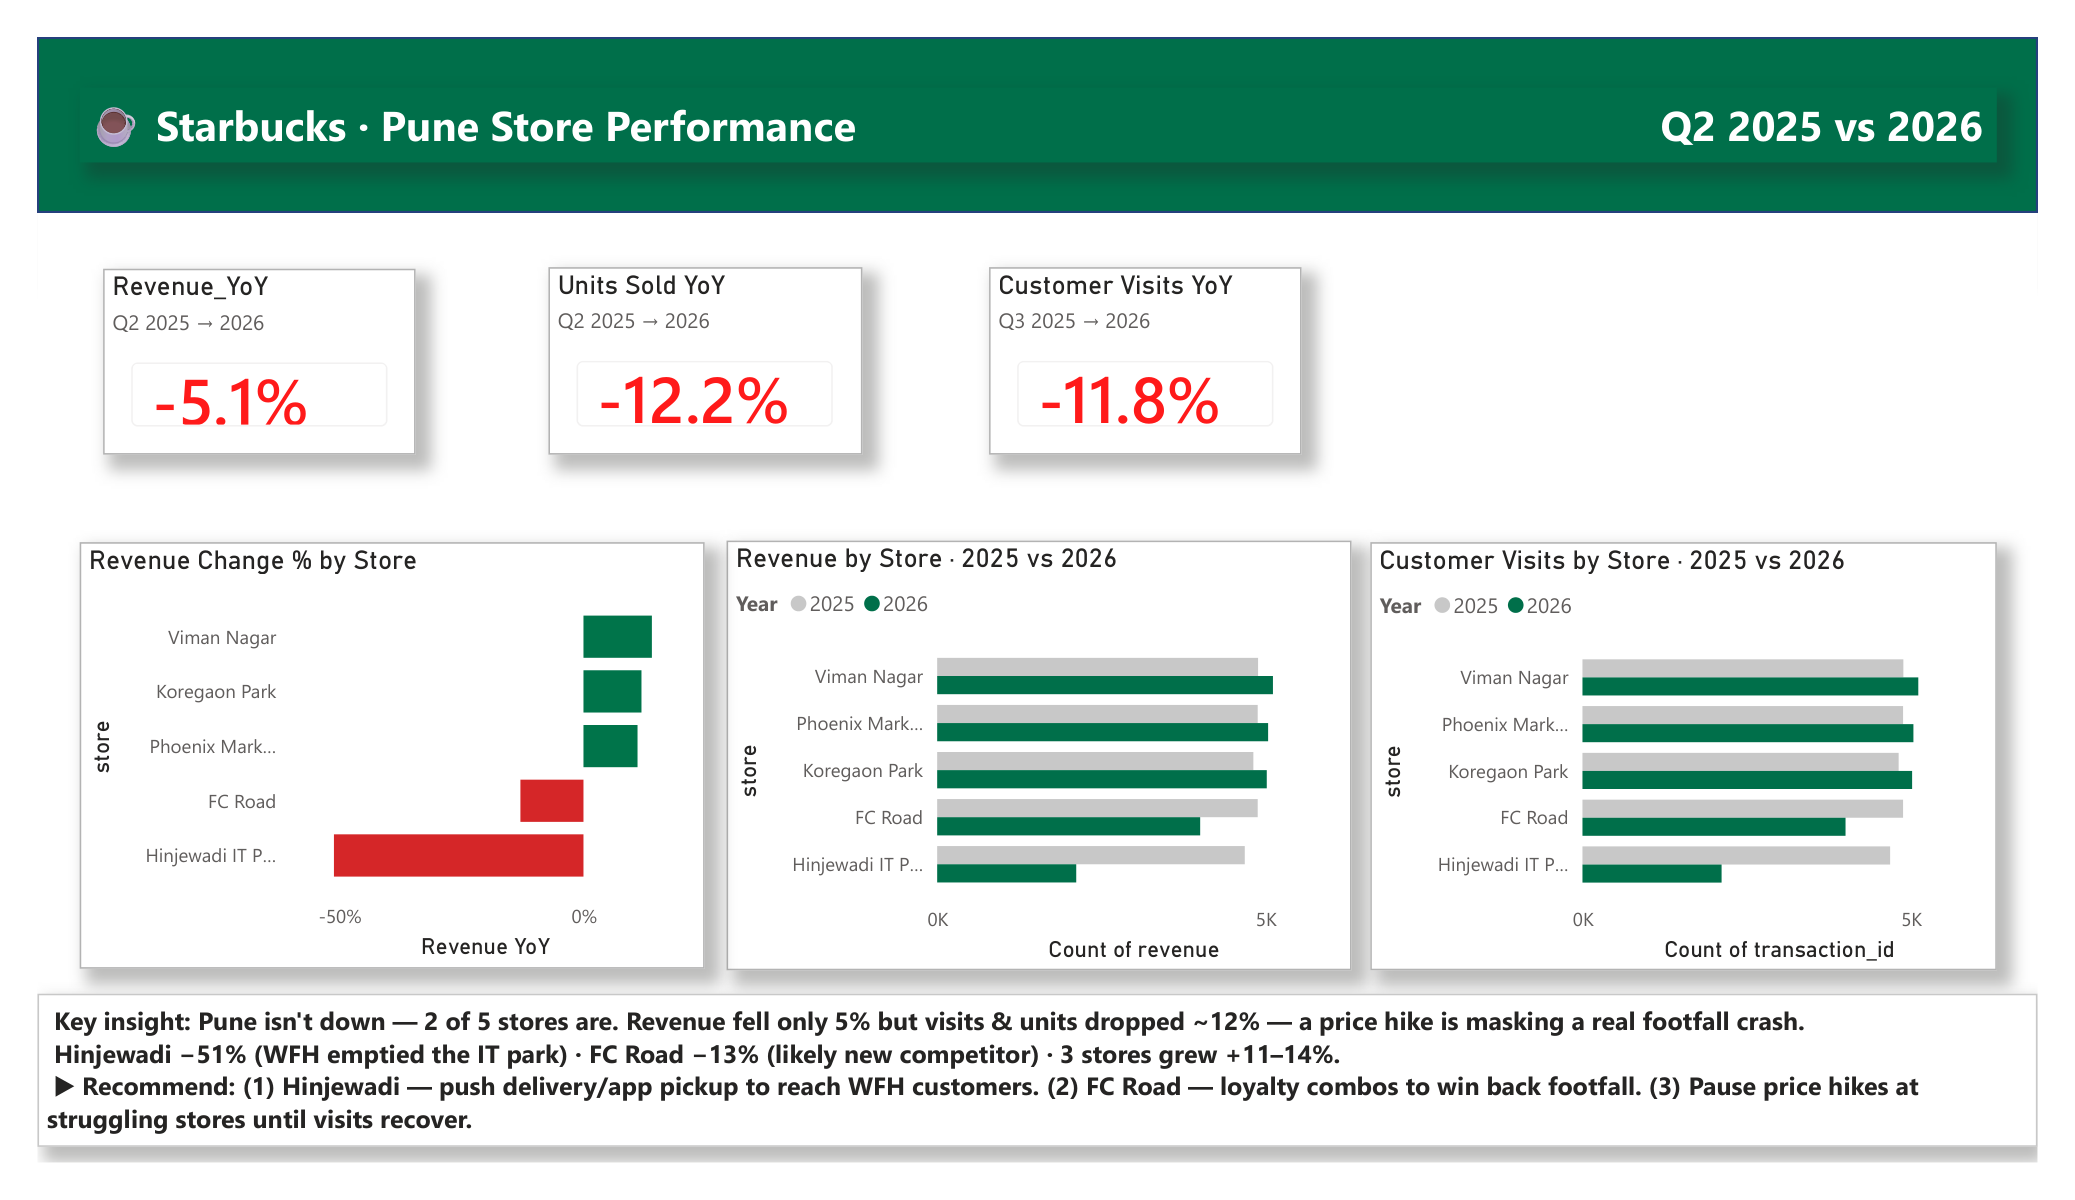

This screenshot's page, from the dashboard's own definition file:
{"tool":"powerbi","page":{"name":"Page 1","canvas":[1280,720],"ordinal":0},"visuals":[{"type":"clusteredBarChart","title":"Revenue by Store · 2025 vs 2026    ","fields":{"Category":["starbucks_sales.store"],"Y":["CountNonNull(starbucks_sales.revenue)"],"Series":["starbucks_sales.Year"]},"box":[440.7,322.1,400,274.4],"z":0},{"type":"clusteredBarChart","title":"Customer Visits by Store · 2025 vs 2026 ","fields":{"Category":["starbucks_sales.store"],"Y":["CountNonNull(starbucks_sales.transaction_id)"],"Series":["starbucks_sales.Year"]},"box":[853.1,323.4,400.4,274.1],"z":1000},{"type":"cardVisual","title":"Revenue_YoY","fields":{"Data":["starbucks_sales.Revenue YoY"]},"box":[41.9,147.7,200,119.8],"z":2000},{"type":"cardVisual","title":" Units Sold YoY ","fields":{"Data":["starbucks_sales.Measure 2 — Units:  UnitsYoY"]},"box":[327.5,146.8,200.2,120.1],"z":3000},{"type":"cardVisual","title":"Customer Visits YoY","fields":{"Data":["starbucks_sales.VisitsYoY"]},"box":[608.8,146.8,200.2,120.1],"z":4000},{"type":"clusteredBarChart","title":"Revenue Change % by Store ","fields":{"Category":["starbucks_sales.store"],"Y":["starbucks_sales.Revenue YoY"]},"box":[26.7,323.4,400.4,273.1],"z":5000},{"type":"shape","box":[0,0,1280.2,111.6],"z":5001},{"type":"textbox","box":[26.7,31.8,1226.8,48.3],"z":5002},{"type":"textbox","box":[0,611.9,1280.2,98.6],"z":5003}]}

Visuals, with their boxes on the page's 1280x720 design canvas (x1, y1, x2, y2). These are canvas units, not pixel positions in the 2075x1200 screenshot, which may show the page scaled, cropped or inside an application window:
"Revenue by Store · 2025 vs 2026    " clusteredBarChart: pyautogui.locateOnScreen(441, 322, 841, 596)
"Customer Visits by Store · 2025 vs 2026 " clusteredBarChart: pyautogui.locateOnScreen(853, 323, 1254, 598)
"Revenue_YoY" cardVisual: pyautogui.locateOnScreen(42, 148, 242, 268)
" Units Sold YoY " cardVisual: pyautogui.locateOnScreen(328, 147, 528, 267)
"Customer Visits YoY" cardVisual: pyautogui.locateOnScreen(609, 147, 809, 267)
"Revenue Change % by Store " clusteredBarChart: pyautogui.locateOnScreen(27, 323, 427, 596)
shape: pyautogui.locateOnScreen(0, 0, 1280, 112)
textbox: pyautogui.locateOnScreen(27, 32, 1254, 80)
textbox: pyautogui.locateOnScreen(0, 612, 1280, 710)
